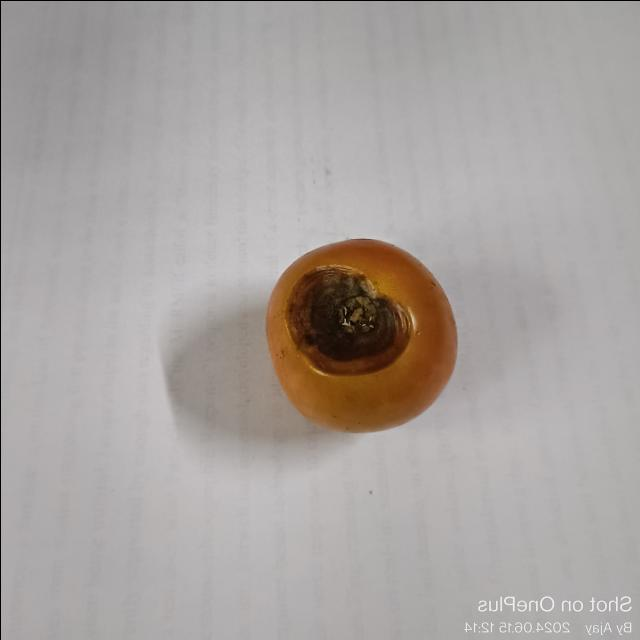Anthrocnose: (288, 264, 418, 374)
